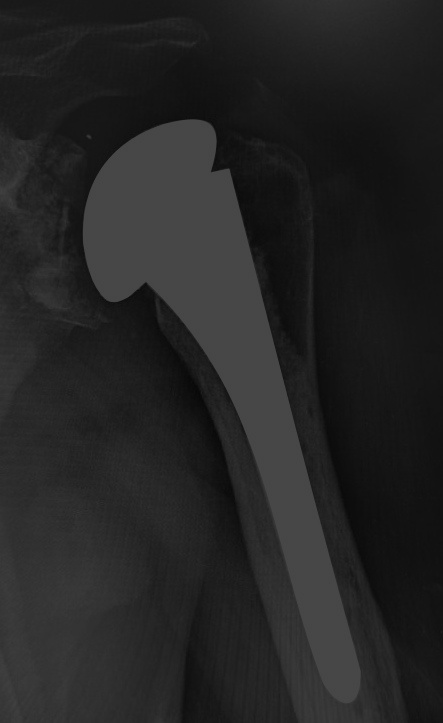Shoulder - Anotomyhead - Stryker: (71, 108, 242, 319)
Shoulder - Anotomytail - Stryker: (134, 157, 307, 440)
